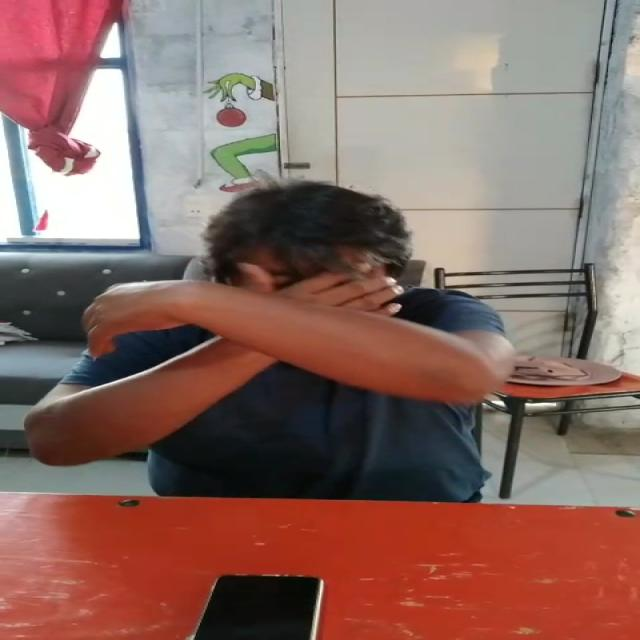7_mano_rostro: (225, 259, 396, 380)
